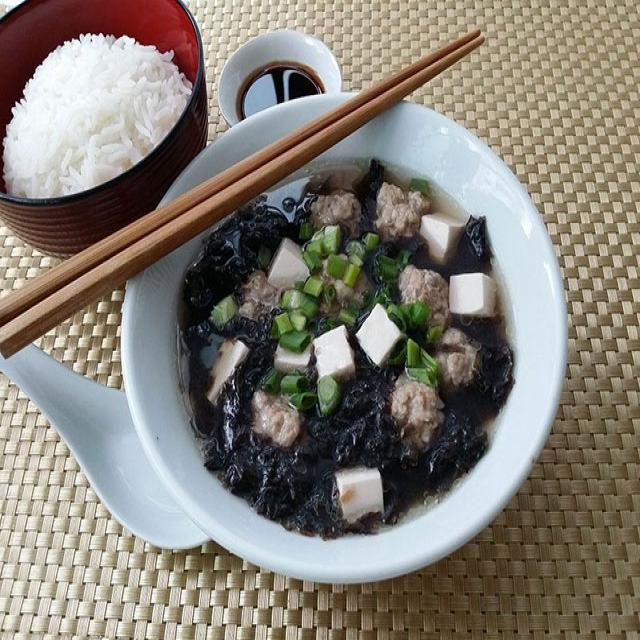canh rong bien: (178, 160, 513, 537)
com: (4, 34, 190, 198)
nuoc tuong: (237, 61, 325, 120)
